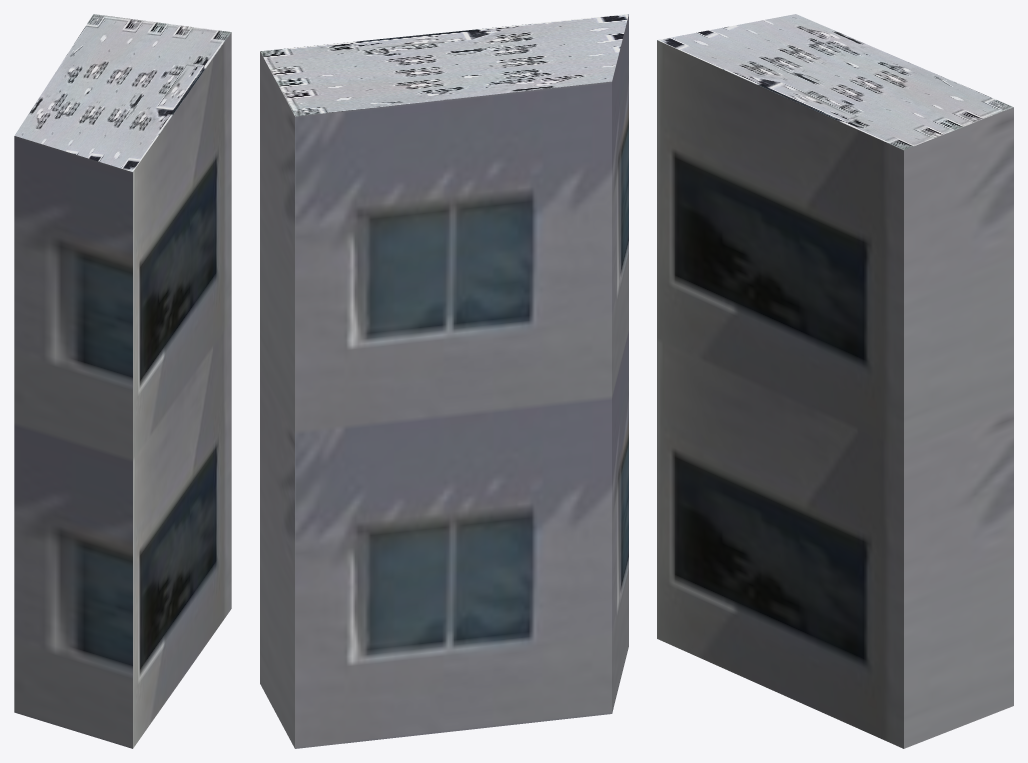
File: ResTex__2822.fbx
3 renders of one model, left to right at view 1: azimuth 30°, elevation 25°; view 2: azimuth 150°, elevation 25°; view 3: azimuth 270°, elevation 25°, orthographic. The views are drawn at different scales.
Visible parts, largest first — view 1: CityEngineMaterial_10_m, CityEngineMaterial_4_m; view 2: CityEngineMaterial_10_m, CityEngineMaterial_4_m; view 3: CityEngineMaterial_10_m, CityEngineMaterial_4_m.
Part boxes in pixels (x1,y1,x2,y2): CityEngineMaterial_10_m: (14, 32, 231, 748); CityEngineMaterial_4_m: (14, 14, 231, 171); CityEngineMaterial_10_m: (260, 14, 628, 748); CityEngineMaterial_4_m: (260, 14, 628, 116); CityEngineMaterial_10_m: (657, 40, 1013, 748); CityEngineMaterial_4_m: (657, 14, 1013, 150).
Bounding box in the file's own units: 2.93 × 6 × 3.24.
2 materials, 2 textured.
